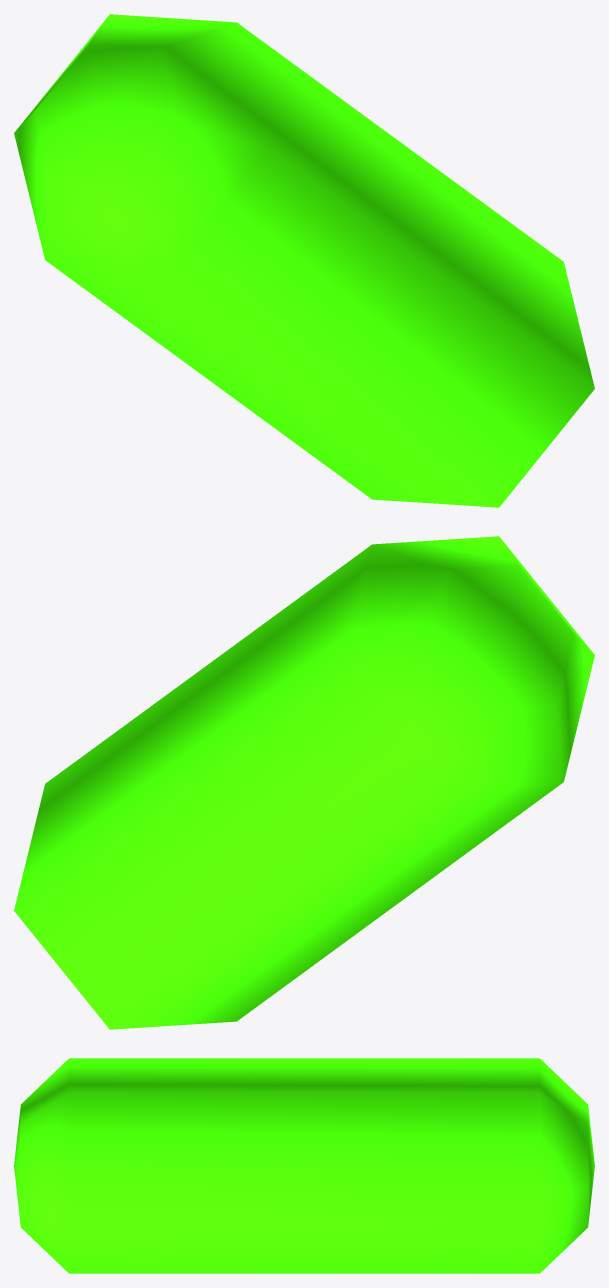
File: crafting_lever_green_glb.glb
3 views of the same model, one above another, from view 1: azimuth 30°, elevation 25°; view 2: azimuth 150°, elevation 25°; view 3: azimuth 270°, elevation 25° (orthographic). The views are drawn at different scales.
Parts seen in each view (by area): view 1: lever_green; view 2: lever_green; view 3: lever_green.
Boxes of the visible parts, box(x1,y1,x2,y2) form: lever_green: box(14, 14, 594, 507); lever_green: box(14, 536, 594, 1029); lever_green: box(14, 1058, 594, 1273).
Bounding box in the file's own units: 0.1469 × 0.1488 × 0.4046.
